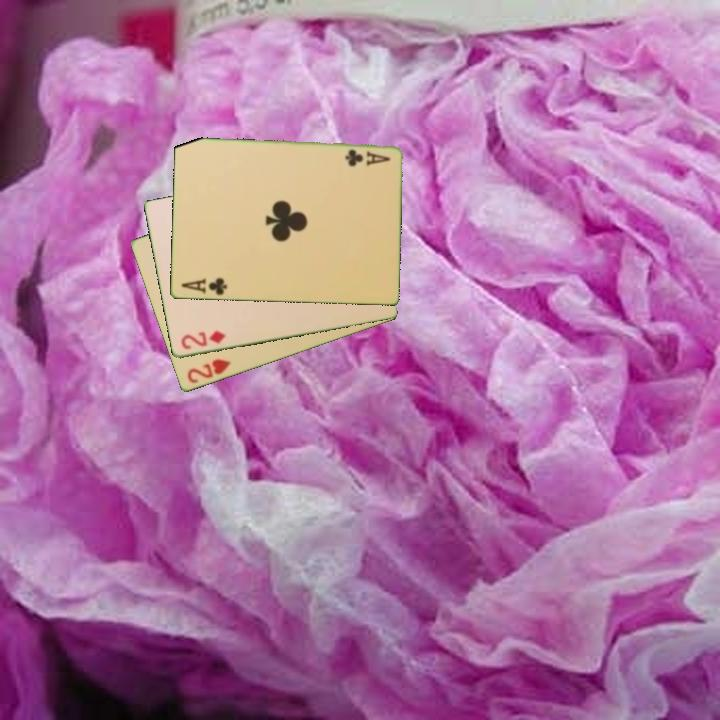2d: (177, 327, 228, 353)
2h: (183, 356, 233, 387)
Ac: (177, 274, 229, 299), (341, 146, 393, 169)
